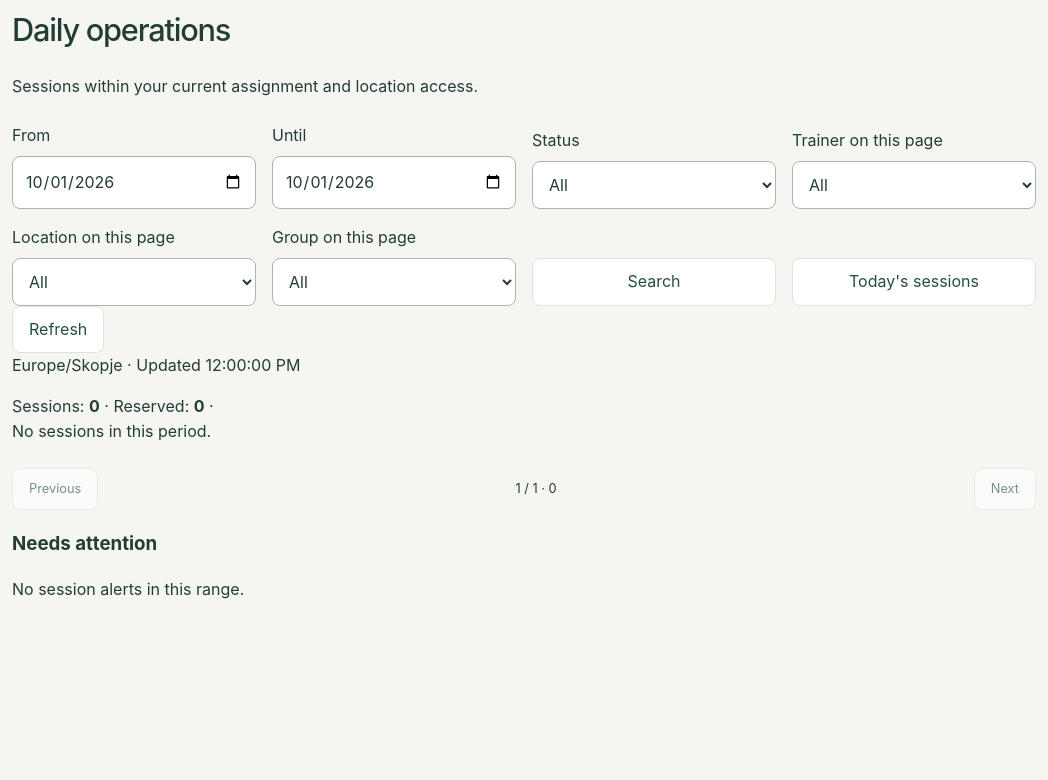
Test case: retains financial restriction and clears data on failed refresh
Check: the text "Europe/Skopje" is shown, box [12,355,123,375]
Click the button "Refresh": (58, 329) [12,306,104,353]
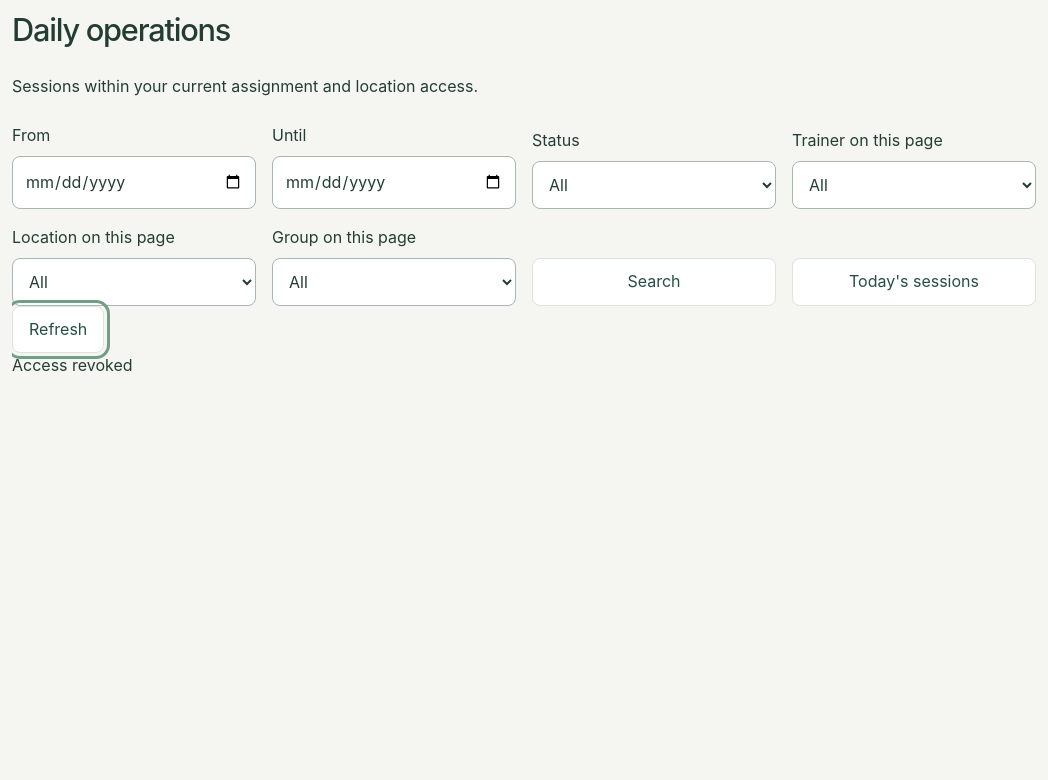
Check: the message reads "Access revoked", box [12,355,133,375]
Check: the text "Europe/Skopje" is gone
